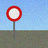sign: (6, 6, 22, 40)
